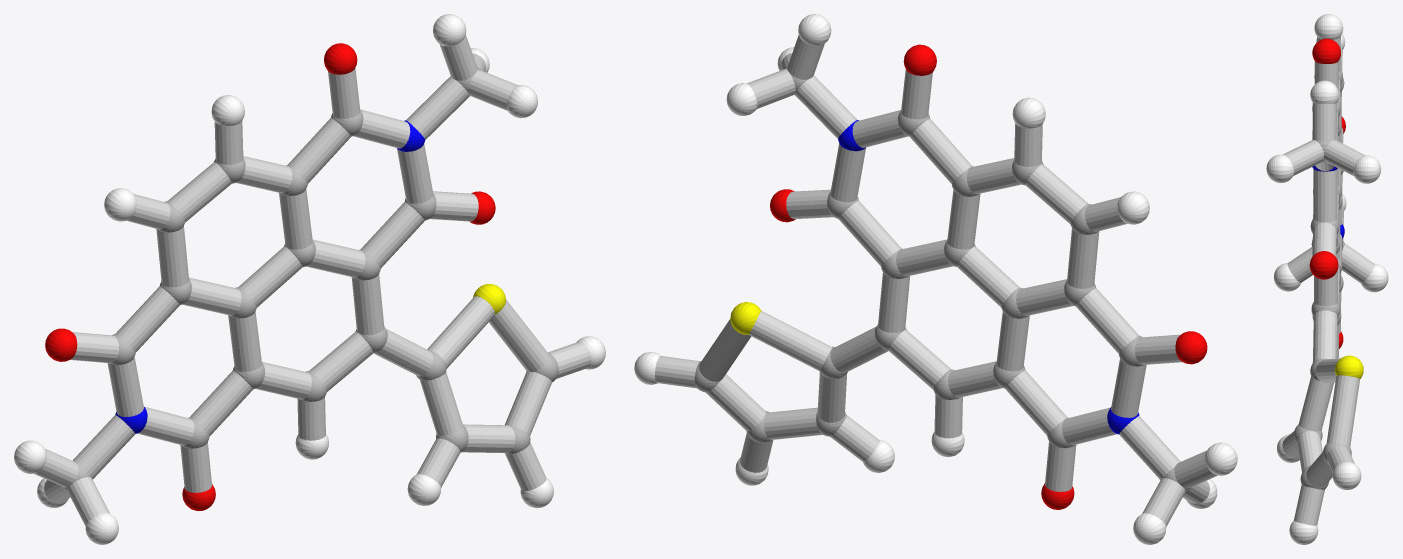
File: Dimethyl_Naphthalene_Dicarboximide_Phi_0_Theta_160_Thiophene.glb
3 views of the same model, side by side, from view 1: azimuth 30°, elevation 25°; view 2: azimuth 150°, elevation 25°; view 3: azimuth 270°, elevation 25° (orthographic). The views are drawn at different scales.
Parts seen in each view (by area): view 1: grp14119, grp7241, grp1, grp12309, grp11585; view 2: grp14119, grp7241, grp1, grp12309, grp11585, grp13757; view 3: grp14119, grp7241, grp1, grp12309, grp13757.
Part boxes in pixels (bbox=[...]): grp14119: bbox=[34, 35, 591, 525]; grp7241: bbox=[14, 14, 605, 544]; grp1: bbox=[62, 67, 558, 491]; grp12309: bbox=[45, 43, 495, 511]; grp11585: bbox=[115, 120, 425, 433]; grp14119: bbox=[655, 35, 1217, 526]; grp7241: bbox=[634, 14, 1237, 544]; grp1: bbox=[694, 66, 1190, 492]; grp12309: bbox=[770, 44, 1207, 509]; grp11585: bbox=[838, 120, 1139, 434]; grp13757: bbox=[730, 302, 761, 334]; grp14119: bbox=[1282, 36, 1374, 525]; grp7241: bbox=[1266, 14, 1388, 544]; grp1: bbox=[1293, 69, 1351, 489]; grp12309: bbox=[1309, 38, 1345, 348]; grp13757: bbox=[1335, 355, 1363, 378].
Bounding box in the file's own units: 12.31 × 9.88 × 2.54.
